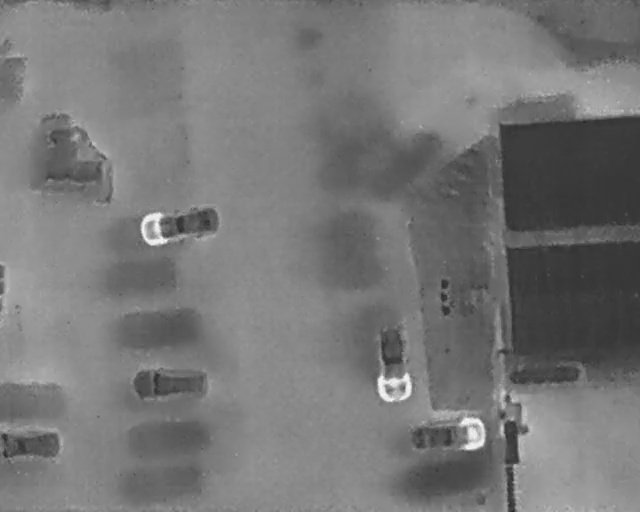Car: (137, 199, 222, 250), (372, 323, 415, 403), (406, 414, 487, 455), (132, 367, 210, 401), (0, 428, 61, 462)
